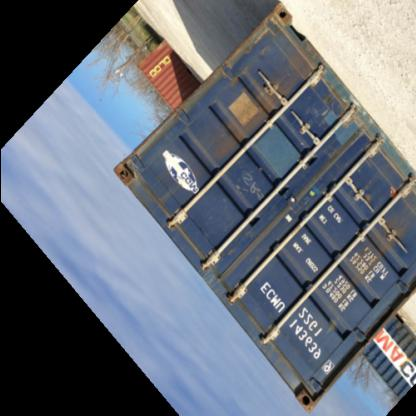Damage: (224, 91, 282, 150), (310, 83, 344, 137), (232, 172, 264, 206), (346, 181, 378, 211), (109, 163, 143, 185), (223, 66, 249, 86), (251, 42, 271, 61)
